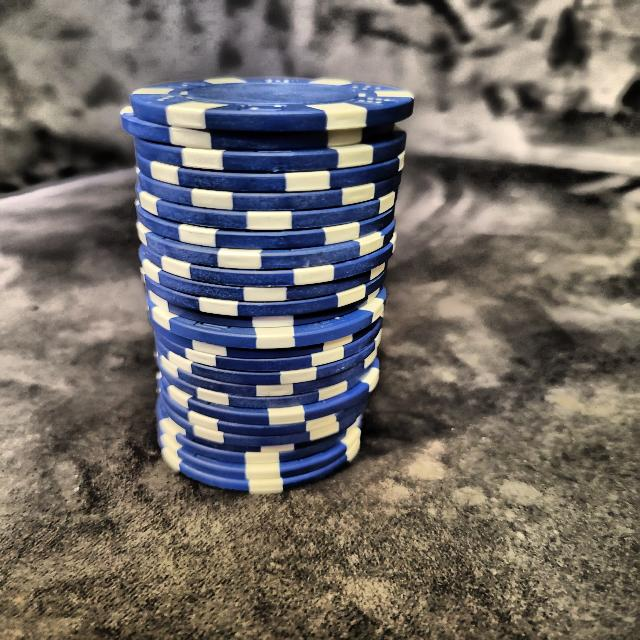Chip: (82, 37, 453, 503)
